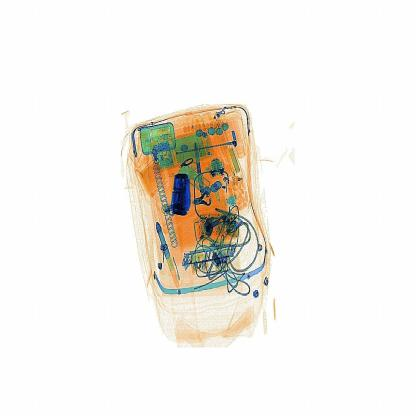scissors: (162, 169, 194, 224)
